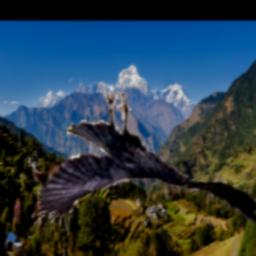Crow: (29, 90, 256, 234)
